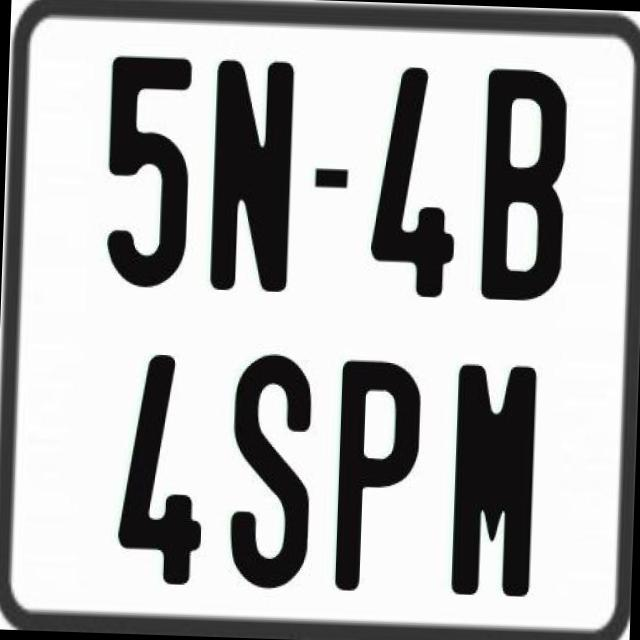4: (115, 353, 208, 593), (368, 60, 461, 292)
5: (100, 50, 190, 290)
B: (482, 63, 568, 298)
M: (449, 360, 535, 600)
N: (208, 57, 300, 295)
P: (334, 356, 424, 590)
S: (226, 352, 318, 594)
